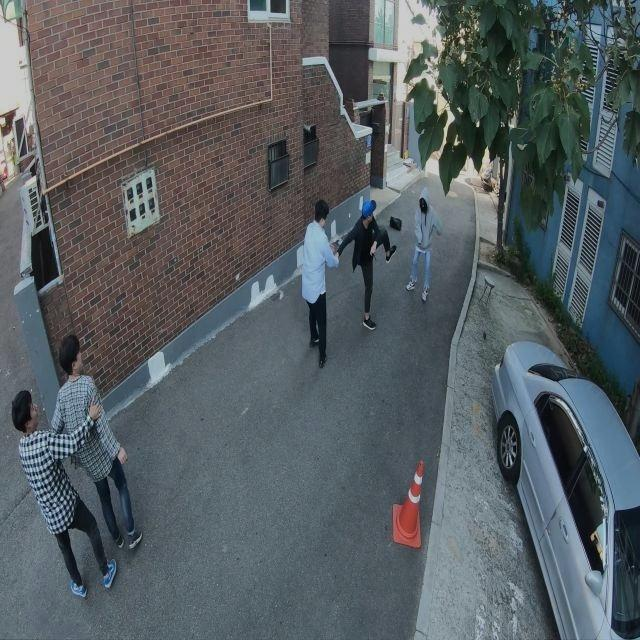fight: (334, 187, 446, 327)
non-fight: (11, 386, 118, 601), (47, 331, 147, 552), (299, 197, 341, 368)
